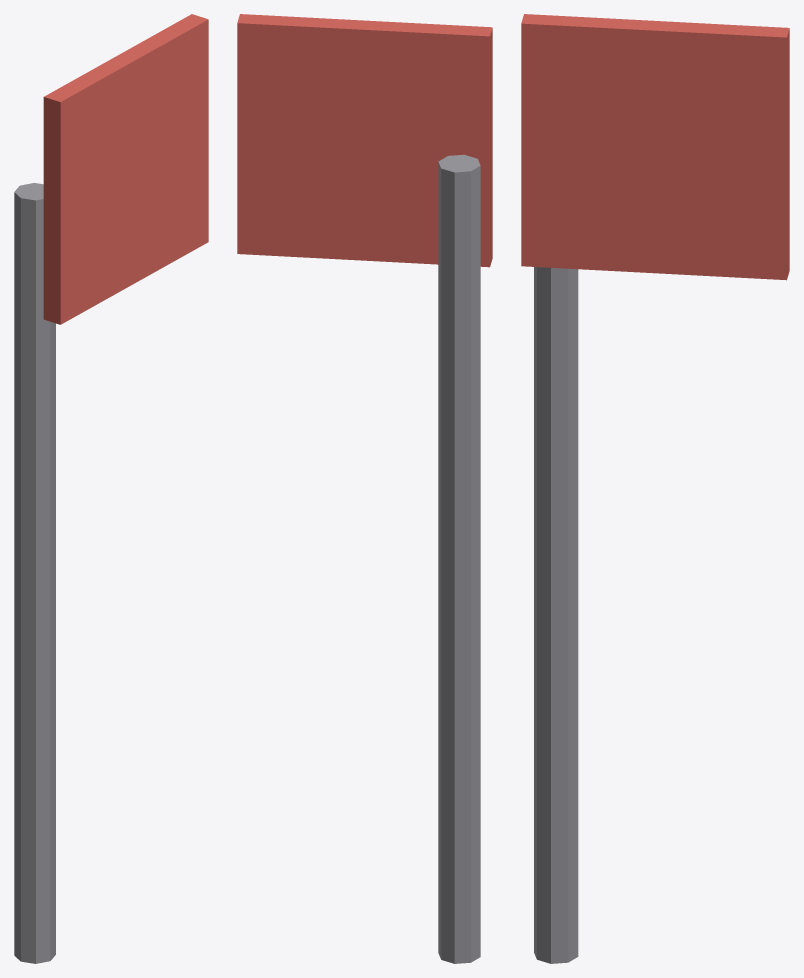
Rendered from damaged_sign.glb.
The picture shows the model from 3 angles, left to right: view 1: azimuth 30°, elevation 25°; view 2: azimuth 150°, elevation 25°; view 3: azimuth 330°, elevation 25°; orthographic projection. The views are drawn at different scales.
Visible parts, largest first — view 1: plate, post; view 2: plate, post; view 3: plate, post.
Boxes of the visible parts, bbox=[...] form: plate: bbox=[43, 14, 208, 324]; post: bbox=[14, 183, 55, 963]; plate: bbox=[237, 14, 492, 267]; post: bbox=[438, 154, 480, 963]; plate: bbox=[521, 14, 789, 280]; post: bbox=[534, 267, 578, 963].
Size of the model in its own units: 0.6911 by 2.75 by 0.328.
